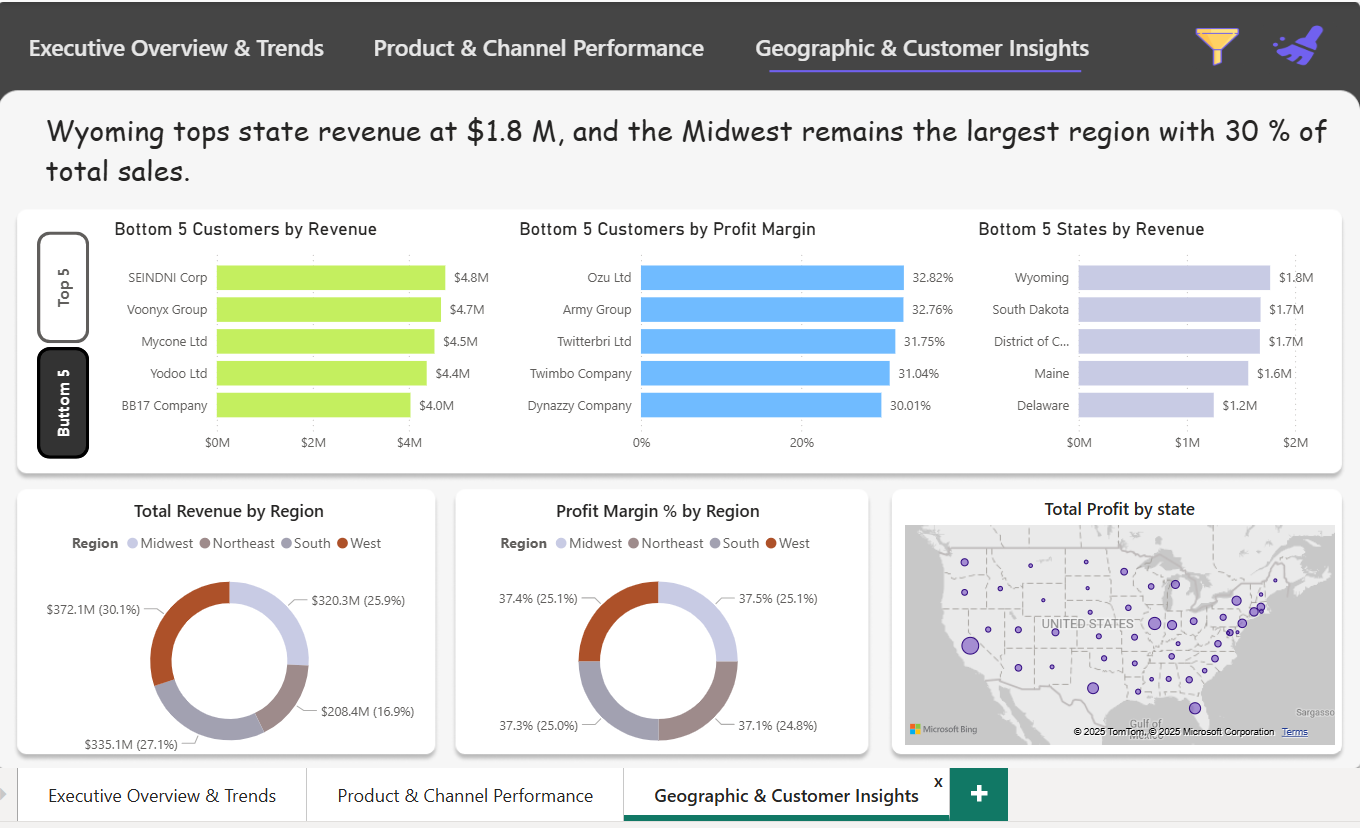

This screenshot's page, from the dashboard's own definition file:
{"tool":"powerbi","page":{"name":"Geographic & Customer Insights","canvas":[1280,720],"ordinal":2},"visuals":[{"type":"barChart","title":"Bottom 5 States by Revenue","fields":{"Category":["Sales_data.state_name"],"Y":["Measures_.Total Revenue"]},"box":[916.3,202.7,344.1,228.8],"z":0,"group":"g2"},{"type":"actionButton","box":[36.3,215,49,105],"z":0,"group":"g1"},{"type":"donutChart","title":"Total Revenue by Region","fields":{"Category":["Sales_data.us_region"],"Y":["Measures_.Total Revenue"]},"box":[20.3,466.1,394.9,254.2],"z":0},{"type":"barChart","title":"Bottom 5 Customers by Profit Margin","fields":{"Category":["Sales_data.customer_name"],"Y":["Measures_.Profit Margin %"]},"box":[485.8,202.7,430.5,228.8],"z":1000,"group":"g2"},{"type":"actionButton","box":[36,323.3,49,105],"z":1000,"group":"g1"},{"type":"pieChart","title":"Profit Margin % by Region","fields":{"Category":["Sales_data.us_region"],"Y":["Measures_.Profit Margin %"]},"box":[415.3,466.1,408.5,254.2],"z":1000},{"type":"actionButton","box":[337.2,14.1,342.3,55.1],"z":2000},{"type":"barChart","title":"Bottom 5 Customers by Revenue","fields":{"Category":["Sales_data.customer_name"],"Y":["Measures_.Total Revenue"]},"box":[104.4,202.7,381.4,228.8],"z":2000,"group":"g2"},{"type":"actionButton","box":[9,14.1,317.9,55.1],"z":3000},{"type":"actionButton","box":[702.6,14.1,333.3,55.1],"z":4000},{"type":"group","id":"g1","title":"bottom 5 button","box":[36,215,49.3,213.3],"z":5000},{"type":"map","fields":{"Category":["Sales_data.state"],"Size":["Measures_.Total Profit"]},"box":[846.9,465.7,413.8,237.7],"z":7000},{"type":"group","id":"g2","title":"buttom 5","box":[104.4,202.7,1155.9,228.8],"z":8000},{"type":"textbox","title":"Bottom Text","box":[40,96,1222,120],"z":10000},{"type":"actionButton","box":[1188,14,70,55],"z":12000},{"type":"actionButton","box":[1120,21,53,42],"z":13000}]}

Visuals, with their boxes on the page's 1280x720 design canvas (x1, y1, x2, y2). These are canvas units, not pixel positions in the 1360x828 screenshot, which may show the page scaled, cropped or inside an application window:
"Bottom 5 States by Revenue" barChart: (left=916, top=203, right=1260, bottom=432)
actionButton: (left=36, top=215, right=85, bottom=320)
"Total Revenue by Region" donutChart: (left=20, top=466, right=415, bottom=720)
"Bottom 5 Customers by Profit Margin" barChart: (left=486, top=203, right=916, bottom=432)
actionButton: (left=36, top=323, right=85, bottom=428)
"Profit Margin % by Region" pieChart: (left=415, top=466, right=824, bottom=720)
actionButton: (left=337, top=14, right=680, bottom=69)
"Bottom 5 Customers by Revenue" barChart: (left=104, top=203, right=486, bottom=432)
actionButton: (left=9, top=14, right=327, bottom=69)
actionButton: (left=703, top=14, right=1036, bottom=69)
"bottom 5 button" group: (left=36, top=215, right=85, bottom=428)
map - Sales_data.state x Measures_.Total Profit: (left=847, top=466, right=1261, bottom=703)
"buttom 5" group: (left=104, top=203, right=1260, bottom=432)
"Bottom Text" textbox: (left=40, top=96, right=1262, bottom=216)
actionButton: (left=1188, top=14, right=1258, bottom=69)
actionButton: (left=1120, top=21, right=1173, bottom=63)
